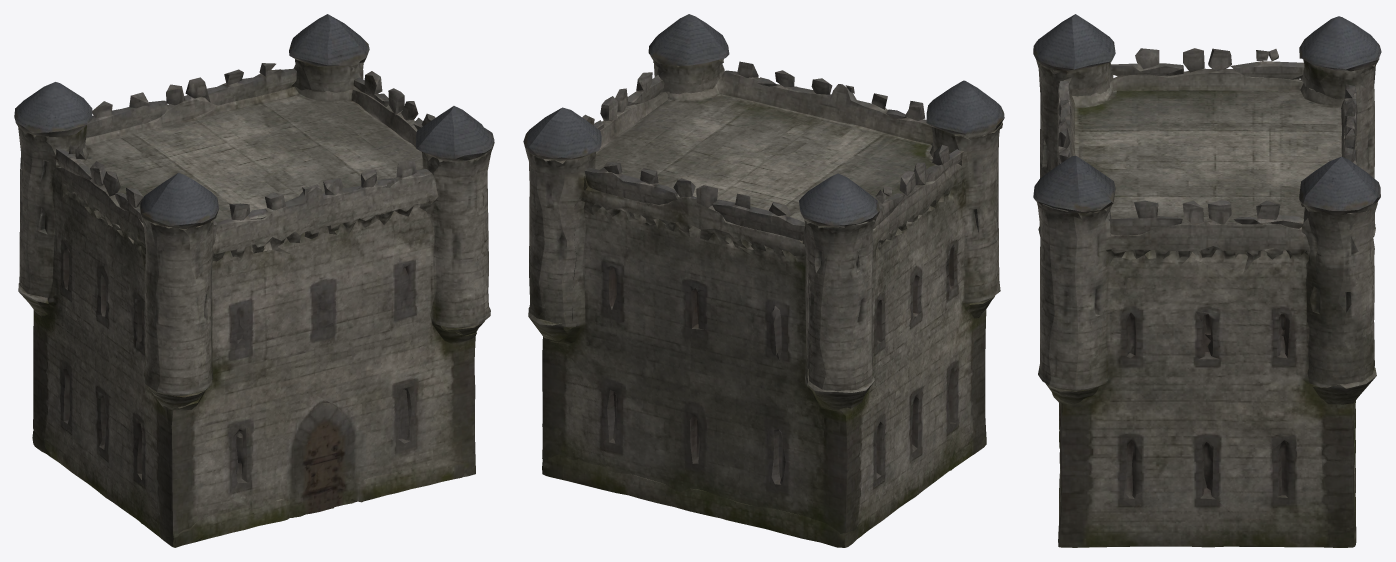
The model's file is 城堡组件-主堡-keep.glb.
3 views of the same model, side by side, from view 1: azimuth 30°, elevation 25°; view 2: azimuth 150°, elevation 25°; view 3: azimuth 270°, elevation 25° (orthographic). The views are drawn at different scales.
Parts seen in each view (by area): view 1: Keep_Body, Turret_Body_-1_-1, Turret_Body_1_-1, Turret_Body_-1_1, Plinth, Parapet_FB_1, Turret_Roof_-1_-1, Turret_Roof_-1_1, Turret_Roof_1_-1, Turret_Roof_1_1, Turret_Body_1_1, Parapet_LR_-1; view 2: Keep_Body, Turret_Body_-1_1, Turret_Body_1_1, Plinth, Turret_Body_-1_-1, Parapet_FB_1, Turret_Roof_-1_-1, Turret_Roof_-1_1, Turret_Roof_1_1, Turret_Roof_1_-1, Turret_Body_1_-1, Turret_Flare_-1_1 (+3 smaller); view 3: Keep_Body, Turret_Body_1_-1, Turret_Body_1_1, Turret_Roof_1_1, Turret_Roof_1_-1, Turret_Roof_-1_-1, Turret_Body_-1_-1, Turret_Roof_-1_1, Turret_Body_-1_1, Parapet_LR_-1, Parapet_LR_1, Plinth (+6 smaller).
Boxes of the visible parts, x1,y1,x2,y2 form: Keep_Body: [33, 86, 476, 543]; Turret_Body_-1_-1: [141, 215, 217, 396]; Turret_Body_1_-1: [422, 142, 494, 328]; Turret_Body_-1_1: [15, 122, 86, 297]; Plinth: [32, 430, 464, 547]; Parapet_FB_1: [86, 68, 296, 137]; Turret_Roof_-1_-1: [140, 173, 219, 228]; Turret_Roof_-1_1: [14, 82, 92, 137]; Turret_Roof_1_-1: [415, 106, 494, 162]; Turret_Roof_1_1: [289, 14, 369, 68]; Turret_Body_1_1: [291, 59, 363, 92]; Parapet_LR_-1: [55, 148, 142, 222]; Keep_Body: [542, 70, 986, 535]; Turret_Body_-1_1: [802, 218, 876, 391]; Turret_Body_1_1: [526, 151, 595, 328]; Plinth: [542, 437, 986, 547]; Turret_Body_-1_-1: [932, 122, 1002, 304]; Parapet_FB_1: [584, 167, 857, 261]; Turret_Roof_-1_-1: [926, 80, 1004, 139]; Turret_Roof_-1_1: [799, 173, 880, 227]; Turret_Roof_1_1: [523, 107, 601, 160]; Turret_Roof_1_-1: [648, 14, 729, 65]; Turret_Body_1_-1: [650, 55, 724, 94]; Turret_Flare_-1_1: [808, 375, 875, 409]; Keep_Body: [1052, 68, 1363, 547]; Turret_Body_1_-1: [1037, 202, 1111, 391]; Turret_Body_1_1: [1301, 202, 1377, 387]; Turret_Roof_1_1: [1299, 156, 1380, 215]; Turret_Roof_1_-1: [1033, 155, 1115, 213]; Turret_Roof_-1_-1: [1033, 14, 1115, 70]; Turret_Body_-1_-1: [1036, 60, 1113, 236]; Turret_Roof_-1_1: [1299, 16, 1381, 71]; Turret_Body_-1_1: [1300, 58, 1379, 229]; Parapet_LR_-1: [1111, 61, 1304, 79]; Parapet_LR_1: [1108, 215, 1303, 235]; Plinth: [1058, 400, 1356, 547].
Size of the model in its own units: 1.97 by 2 by 1.63.
1 material, 1 textured.
